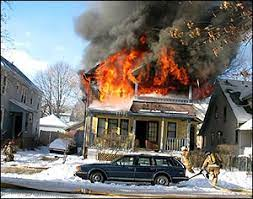smoke: (59, 1, 250, 92)
